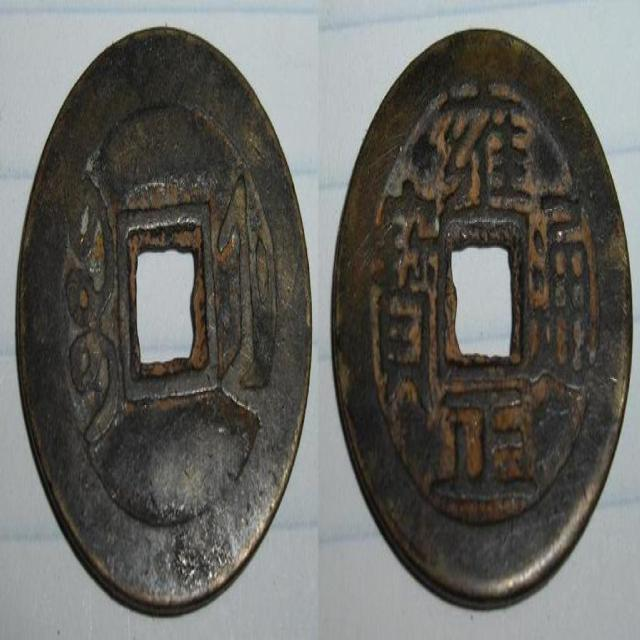Coin: (331, 21, 637, 611), (12, 26, 316, 609)
